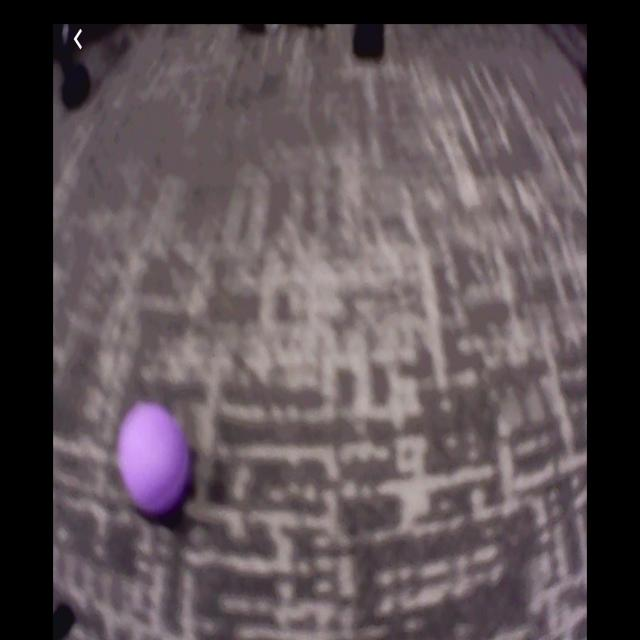ball: (120, 401, 189, 516)
